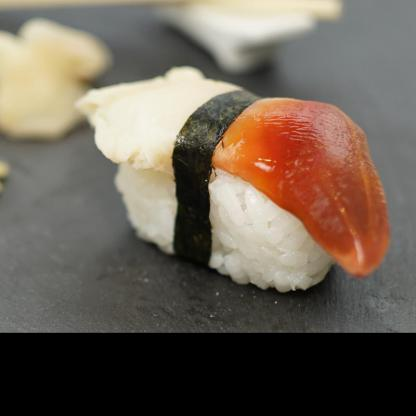hokkigai: (59, 61, 400, 302)
